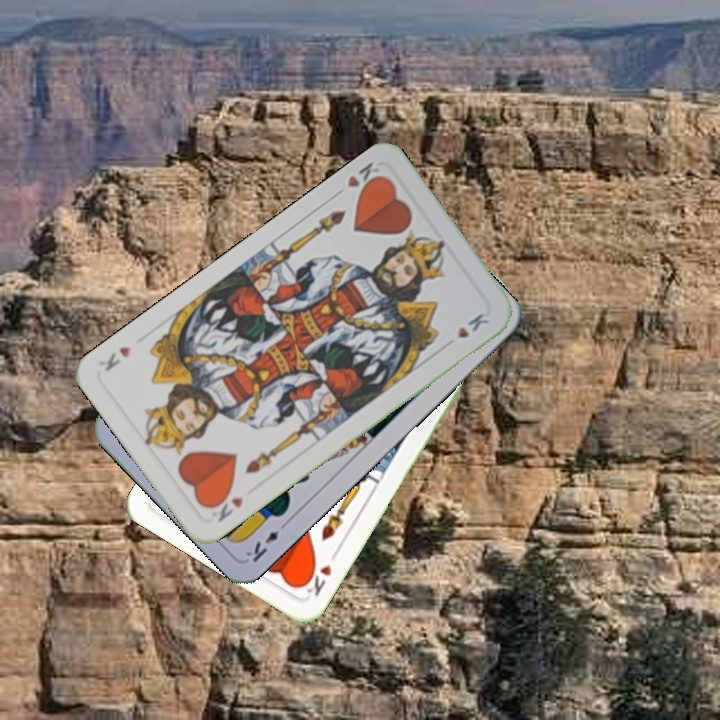EK: (241, 517, 291, 565)
HK: (298, 545, 342, 599), (330, 158, 386, 200), (205, 488, 246, 525)
